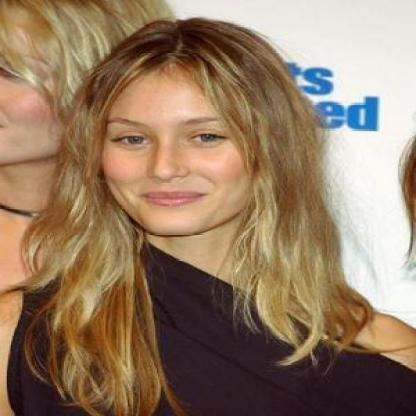long-hair: (36, 236, 345, 275)
